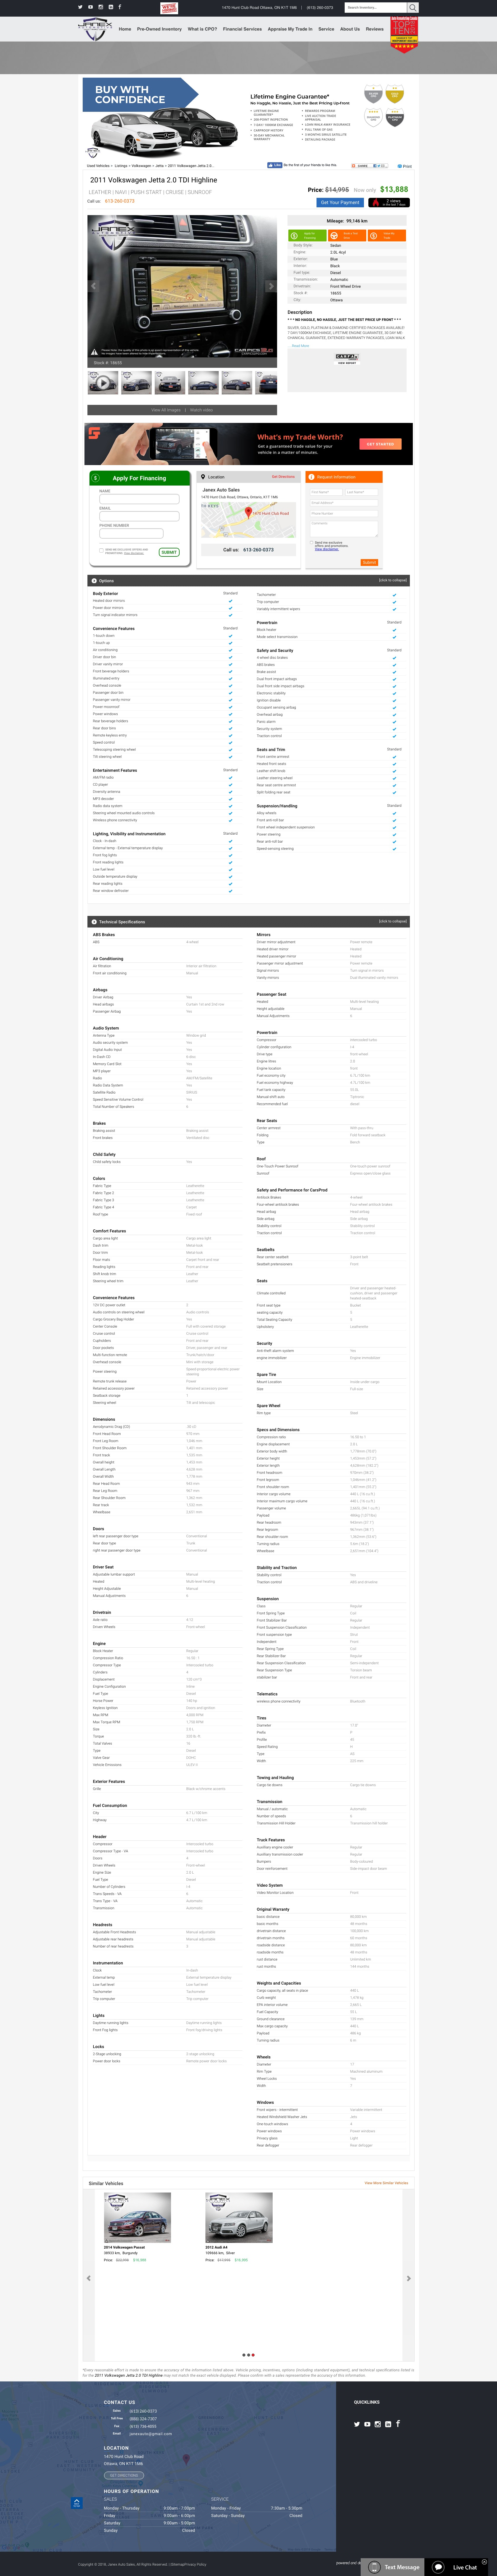car: (269, 283, 274, 291)
